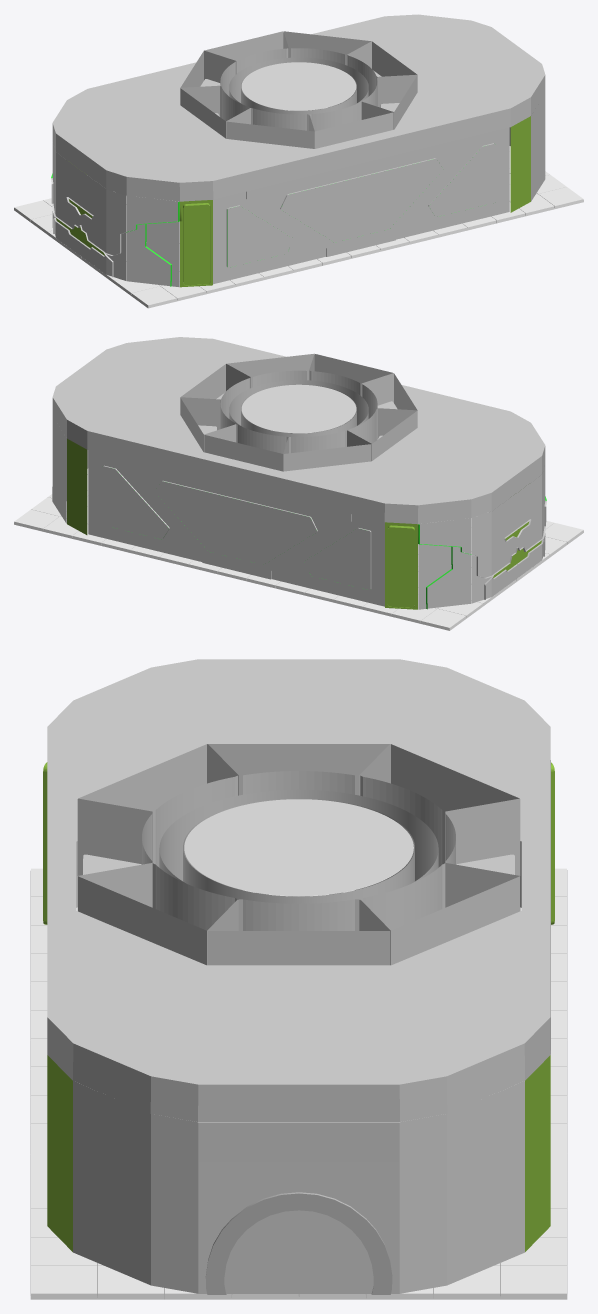
File: room-central.gltf
3 views of the same model, one above another, from view 1: azimuth 30°, elevation 25°; view 2: azimuth 150°, elevation 25°; view 3: azimuth 270°, elevation 25° (orthographic). The views are drawn at different scales.
Visible parts, largest first — view 1: Plane.001, Plane.015, Cylinder.001, Plane, Cube.021, Cylinder.002, Plane.007, Plane.009, Cylinder, Plane.008; view 2: Plane.001, Plane.015, Cylinder.001, Plane, Cube.021, Cylinder.002, Plane.007, Plane.009, Plane.008, Cylinder; view 3: Plane.001, Plane.007, Cylinder.001, Cube.021, Cylinder.002, Cylinder, Circle.006, Plane, Cylinder.007.
Part boxes in pixels (bbox=[...]): Plane.001: bbox=[52, 14, 545, 201]; Plane.015: bbox=[213, 110, 509, 284]; Cylinder.001: bbox=[180, 31, 417, 148]; Plane: bbox=[51, 152, 212, 287]; Cube.021: bbox=[14, 146, 583, 308]; Cylinder.002: bbox=[241, 62, 356, 110]; Plane.007: bbox=[510, 94, 545, 212]; Plane.009: bbox=[51, 142, 126, 280]; Cylinder: bbox=[229, 57, 368, 115]; Plane.008: bbox=[183, 204, 209, 285]; Plane.001: bbox=[52, 337, 545, 523]; Plane.015: bbox=[88, 450, 384, 606]; Cylinder.001: bbox=[180, 353, 417, 471]; Plane: bbox=[385, 475, 546, 609]; Cube.021: bbox=[14, 468, 583, 630]; Cylinder.002: bbox=[241, 384, 356, 433]; Plane.007: bbox=[52, 416, 87, 534]; Plane.009: bbox=[471, 465, 546, 603]; Plane.008: bbox=[388, 527, 414, 607]; Cylinder: bbox=[229, 380, 368, 437]; Plane.001: bbox=[47, 659, 550, 1121]; Plane.007: bbox=[47, 1055, 550, 1293]; Cylinder.001: bbox=[77, 744, 520, 965]; Cube.021: bbox=[30, 868, 567, 1299]; Cylinder.002: bbox=[184, 799, 413, 896]; Cylinder: bbox=[159, 789, 438, 903]; Circle.006: bbox=[205, 1192, 392, 1294]; Plane: bbox=[43, 762, 554, 924]; Cylinder.007: bbox=[83, 854, 514, 874].
Size of what is drawn, in the model's own units: 60.38 by 16.42 by 32.
